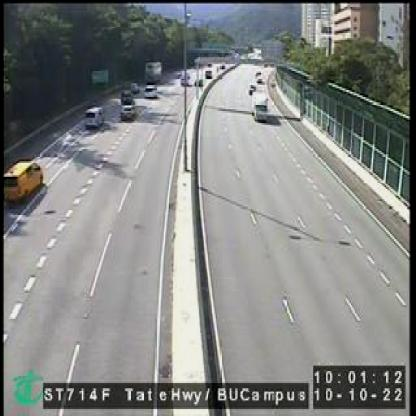Bus: (146, 61, 164, 82)
Car: (253, 91, 268, 123), (83, 107, 103, 130), (122, 102, 138, 121), (145, 82, 158, 96), (121, 88, 134, 102), (130, 80, 141, 93), (249, 84, 256, 96)
Truck: (6, 158, 44, 206)
